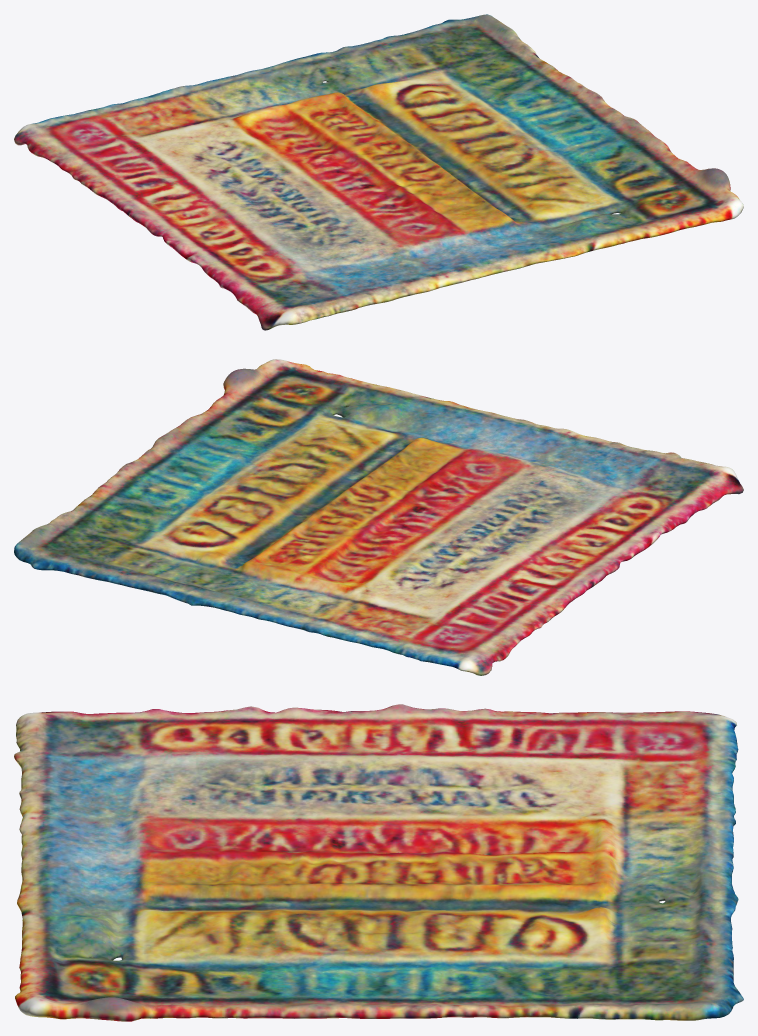
File: c699c72298d4_2e1961f77094_a_colorful_toynbee_.glb
3 renders of one model, top to bottom at view 1: azimuth 30°, elevation 25°; view 2: azimuth 150°, elevation 25°; view 3: azimuth 270°, elevation 25°, orthographic. The views are drawn at different scales.
Parts seen in each view (by area): view 1: high_poly; view 2: high_poly; view 3: high_poly.
Part boxes in pixels (left/top/right/bottom): high_poly: left=14, top=14, right=743, bottom=330; high_poly: left=14, top=359, right=743, bottom=675; high_poly: left=14, top=704, right=743, bottom=1021.
Size of the model in its own units: 1 by 0.0658 by 0.9731.
1 material, 1 textured.
